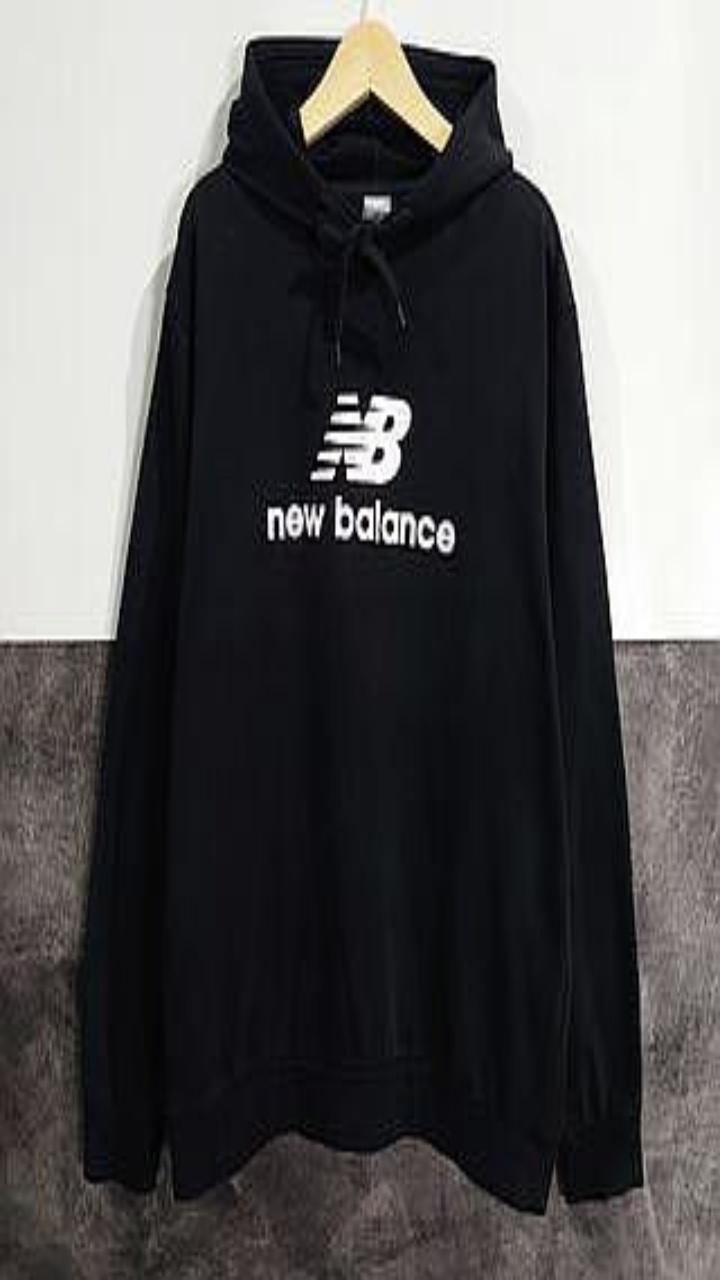Hoodie: (81, 36, 642, 1212)
